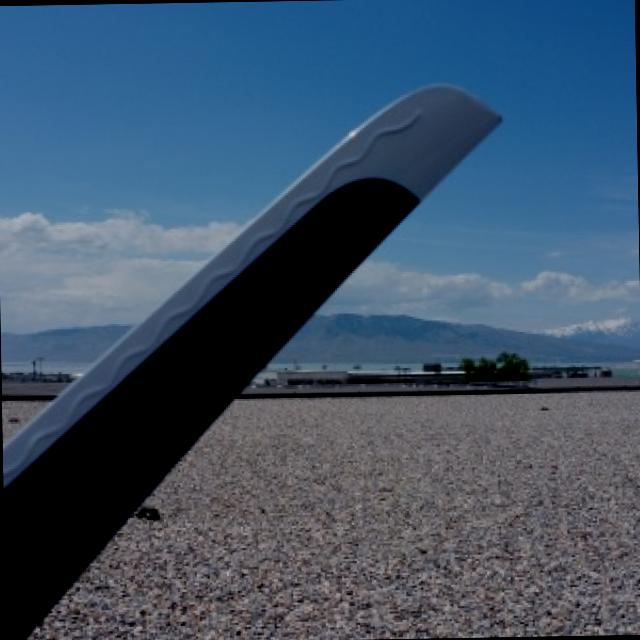healthy: (6, 85, 496, 640)
